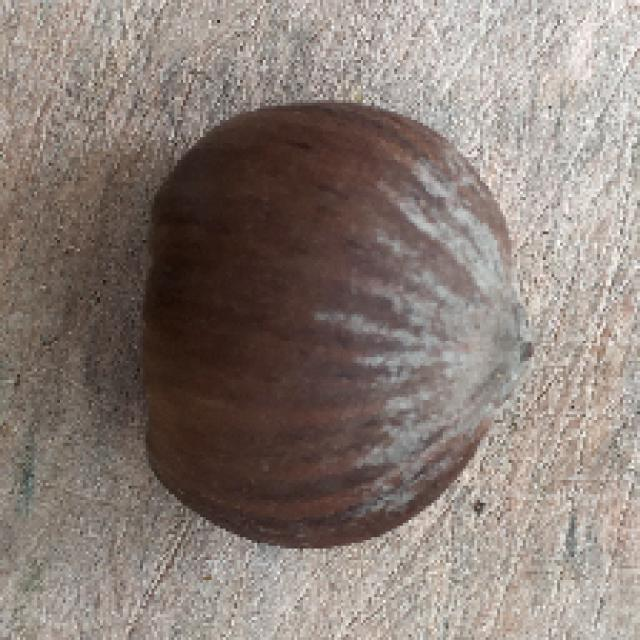DamagedHazelnut: (144, 97, 533, 554)
